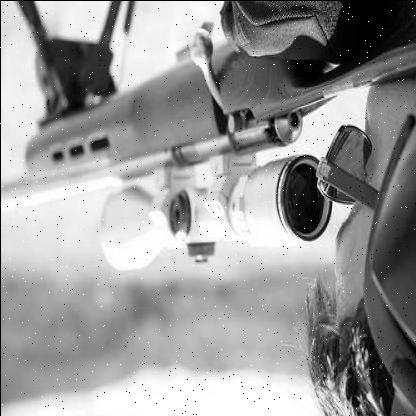rifle: (1, 0, 416, 271)
